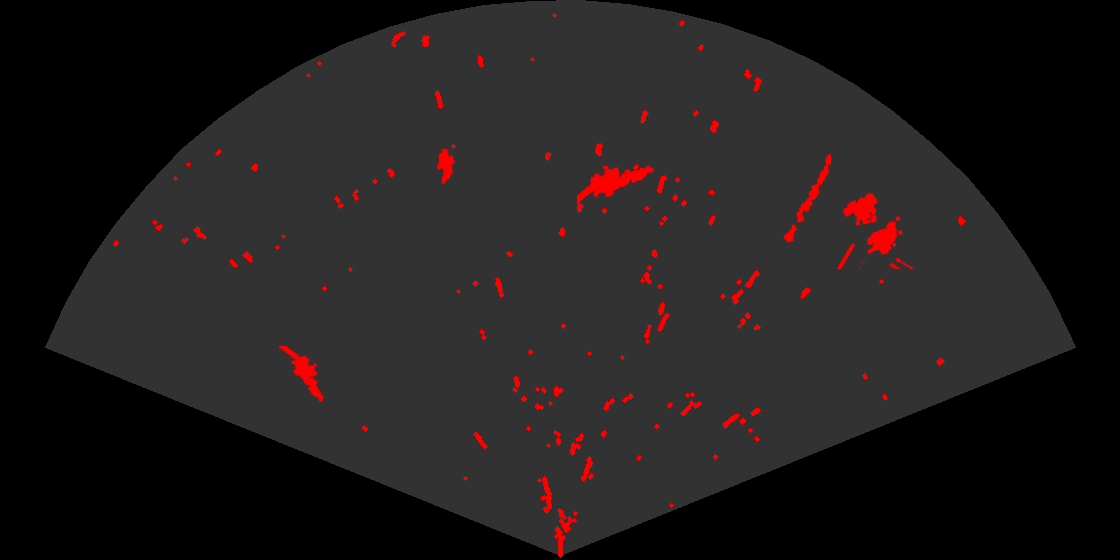AUV: (435, 146, 457, 186)
cage: (835, 191, 915, 269)
chain: (782, 152, 833, 244)
frogman: (577, 164, 656, 206), (279, 346, 326, 403)
